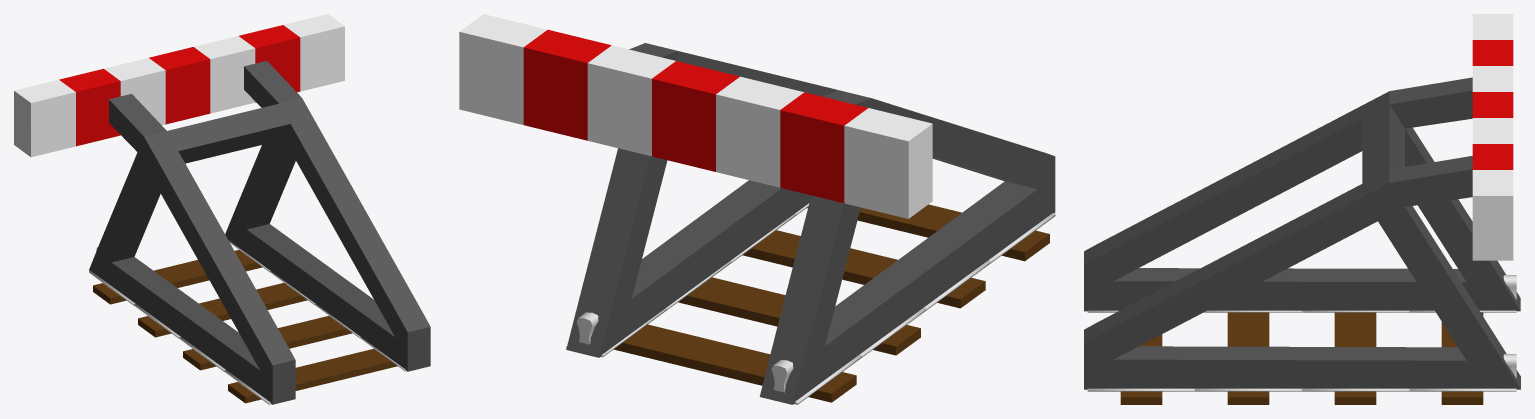
File: track_end.glb
3 views of the same model, side by side, from view 1: azimuth 30°, elevation 25°; view 2: azimuth 150°, elevation 25°; view 3: azimuth 270°, elevation 25° (orthographic). The views are drawn at different scales.
Parts seen in each view (by area): view 1: Cube.002; view 2: Cube.002; view 3: Cube.002.
Boxes of the visible parts, box(x1,y1,x2,y2) form: Cube.002: box(14, 14, 430, 404); Cube.002: box(459, 14, 1055, 404); Cube.002: box(1084, 14, 1520, 404).
Size of the model in its own units: 3.62 by 2.3 by 3.67.
